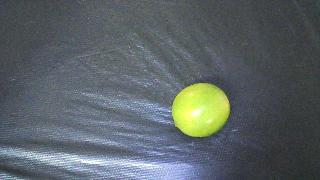LOCAL: (172, 83, 230, 137)
